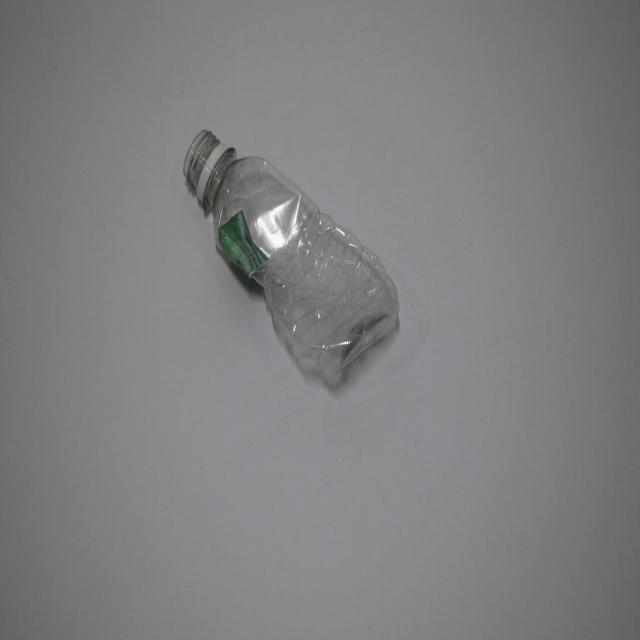plastic: (184, 127, 400, 392)
